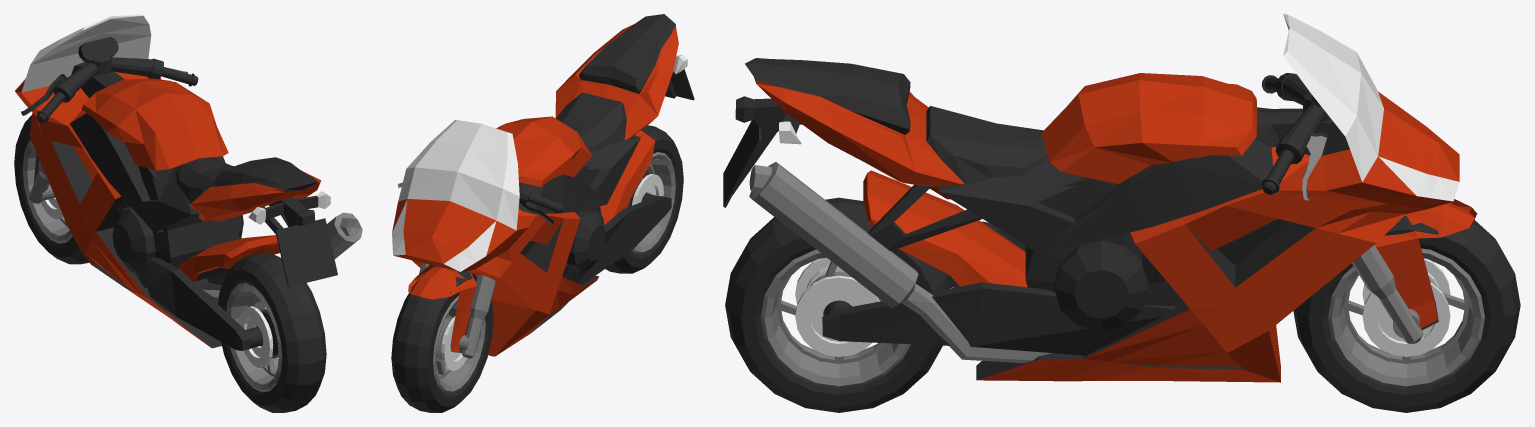
The model's file is Motorcycle.glb.
3 renders of one model, left to right at view 1: azimuth 30°, elevation 25°; view 2: azimuth 150°, elevation 25°; view 3: azimuth 270°, elevation 25°, orthographic. The views are drawn at different scales.
Parts seen in each view (by area): view 1: Motorcycle; view 2: Motorcycle; view 3: Motorcycle.
Boxes of the visible parts, left/top/right/bottom form: Motorcycle: left=14, top=14, right=362, bottom=412; Motorcycle: left=391, top=14, right=694, bottom=412; Motorcycle: left=723, top=14, right=1520, bottom=412.
Bounding box in the file's own units: 42.86 × 67.18 × 127.
Materials: 1 (1 with a texture image).
